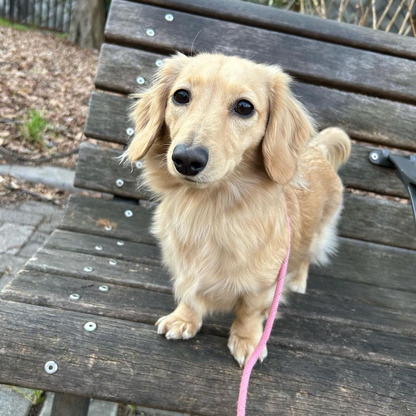dachshund: (125, 49, 377, 376)
